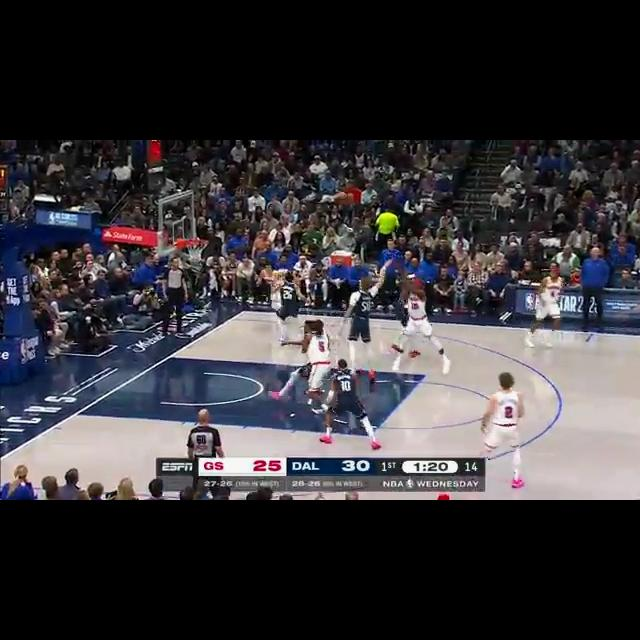Ball: (334, 188, 350, 206)
Team-1-Player: (342, 255, 398, 379), (318, 354, 382, 456), (270, 274, 310, 338)
Team-2-Player: (384, 258, 454, 376), (477, 371, 531, 492), (524, 263, 566, 351), (300, 319, 334, 395)
